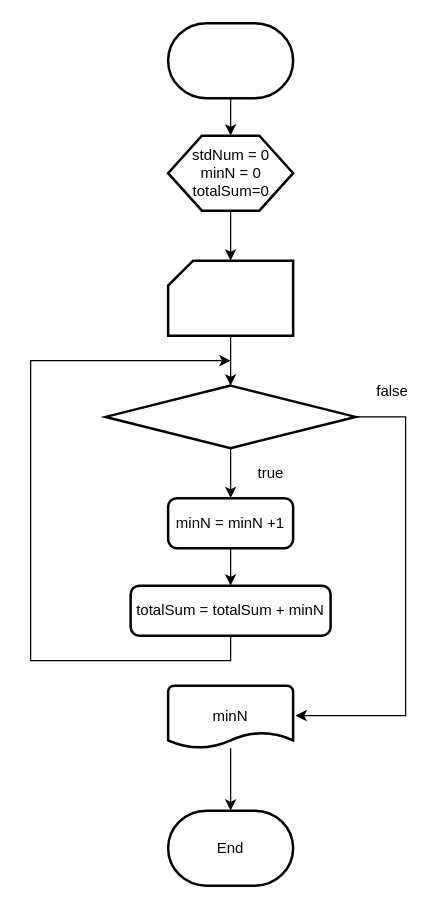
Image size: 446x908. Some labels were removed from this diagram. Here are the shapes that lost their labels. From the top down, the centre of each, then its label:
At [230,60]: "Start".
At [230,297]: "stdNum".
At [230,416]: "totalSum < stdNum ?".
